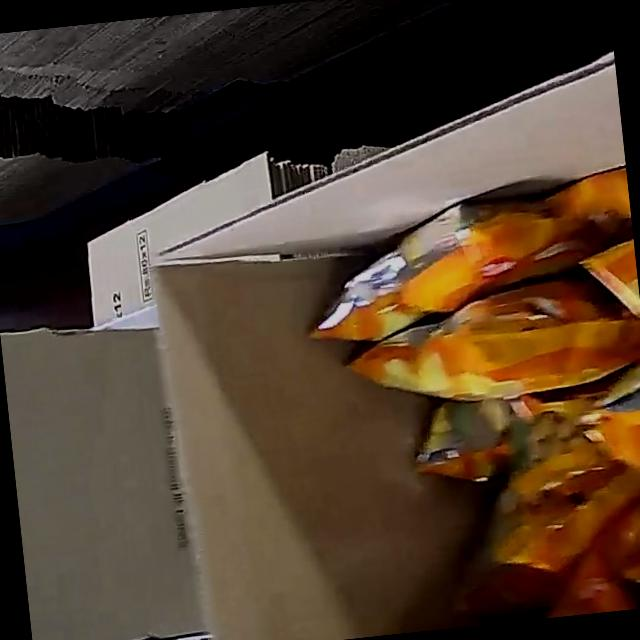cheese: (285, 110, 640, 639)
